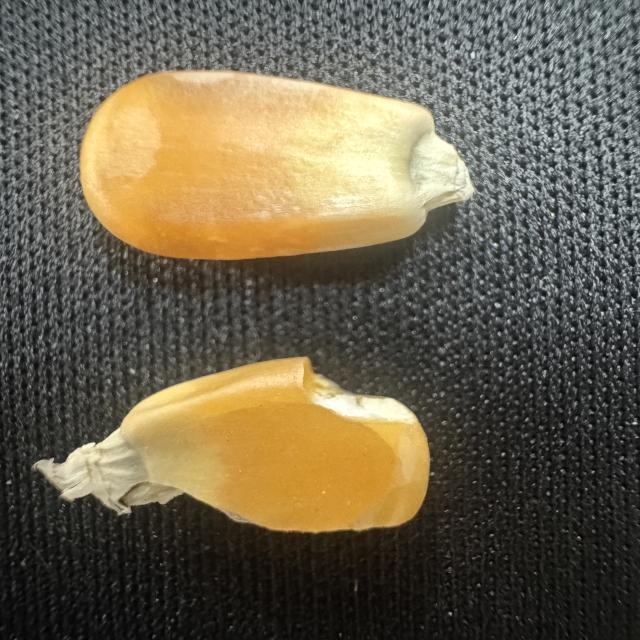Bad-Seed: (22, 351, 453, 554)
Good-Seed: (75, 62, 480, 273)
